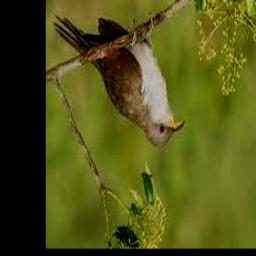Cuckoo: (53, 18, 185, 149)
